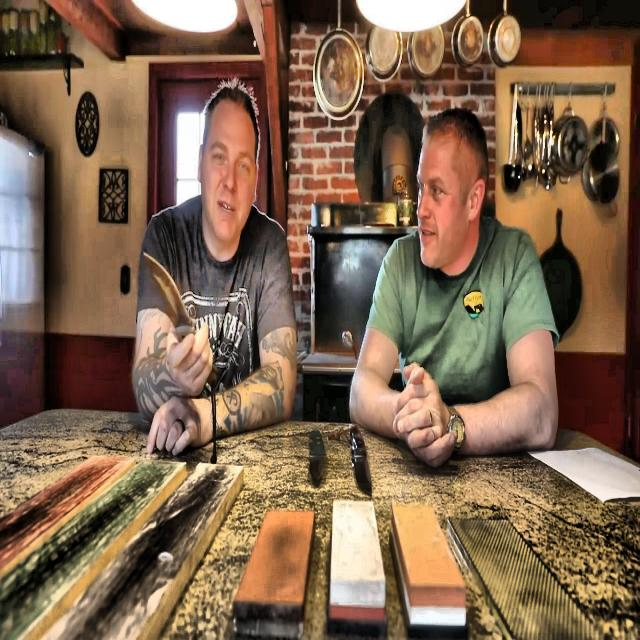knife: (143, 253, 217, 395), (349, 425, 375, 500), (308, 428, 326, 482)
